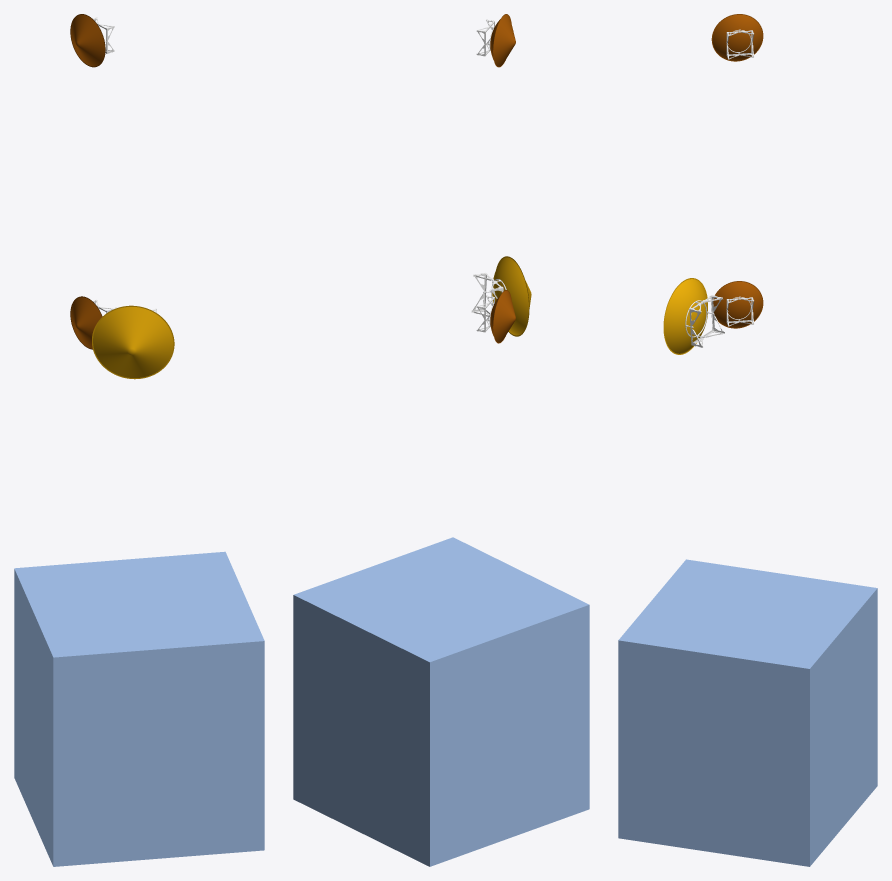
Rendered from ang八重岳.glb.
3 views of the same model, side by side, from view 1: azimuth 30°, elevation 25°; view 2: azimuth 150°, elevation 25°; view 3: azimuth 270°, elevation 25° (orthographic). The views are drawn at different scales.
Visible parts, largest first — view 1: group_58, group_50.004, group_50.008, group_50; view 2: group_58, group_50.004, group_50, group_50.008; view 3: group_58, group_50.004, group_50.008, group_50.
Boxes of the visible parts, x1,y1,x2,y2 form: group_58: [14, 551, 264, 866]; group_50.004: [93, 307, 173, 377]; group_50.008: [71, 14, 104, 66]; group_50: [71, 297, 101, 348]; group_58: [293, 537, 589, 866]; group_50.004: [492, 257, 531, 335]; group_50: [490, 290, 515, 342]; group_50.008: [490, 14, 515, 66]; group_58: [618, 559, 877, 866]; group_50.004: [664, 279, 707, 353]; group_50.008: [712, 14, 762, 60]; group_50: [713, 281, 762, 327].
Bounding box in the file's own units: 10.21 × 33.53 × 10.21.
